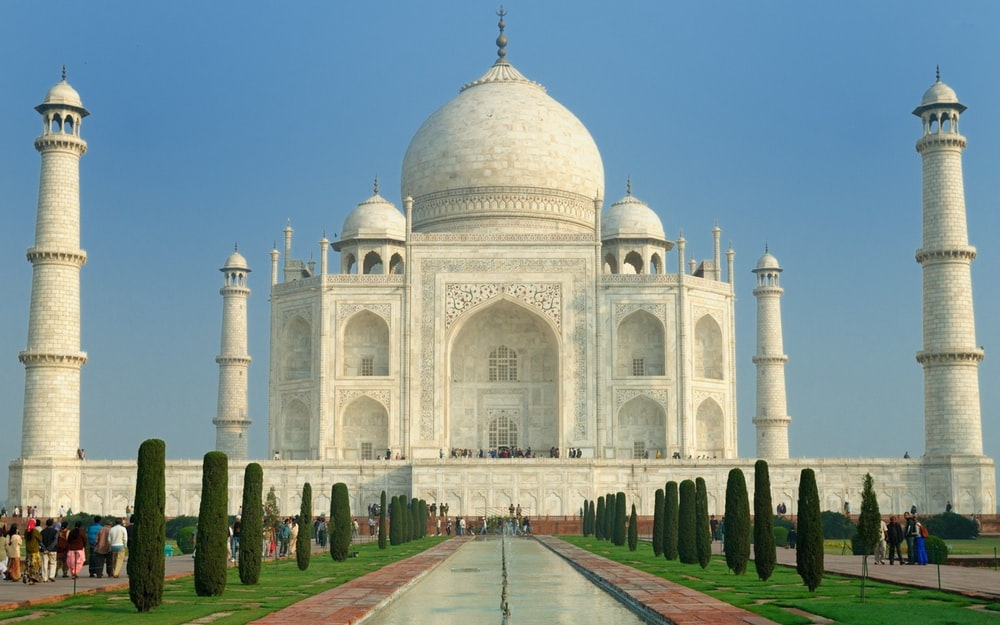Mosque: (18, 5, 989, 535)
